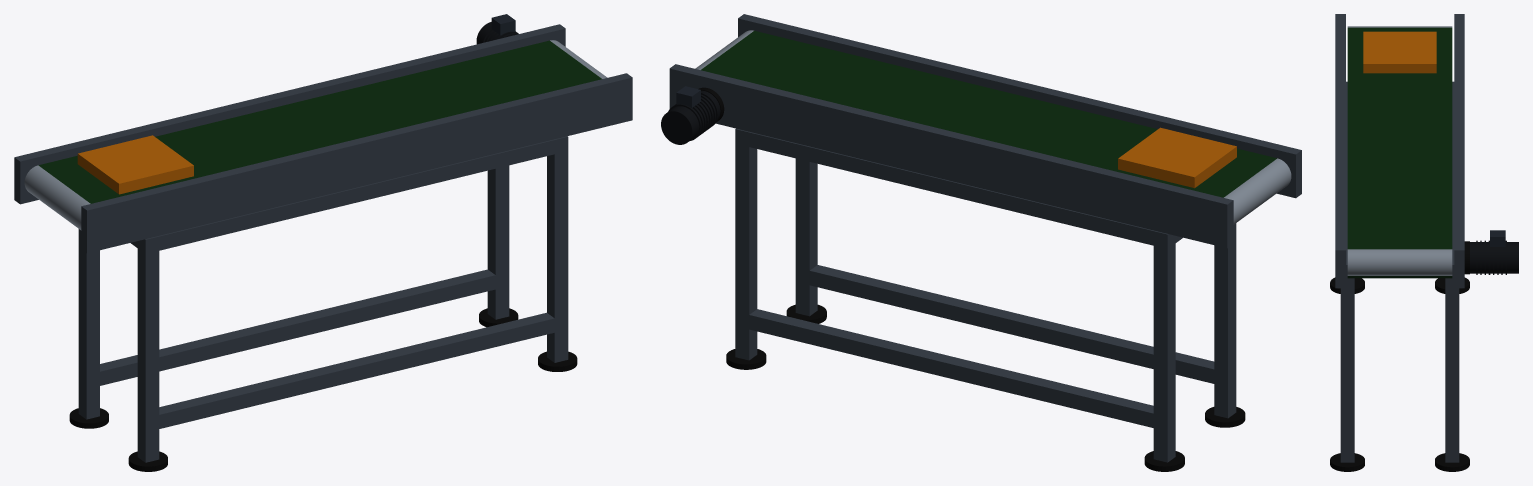
File: belt_conveyor.glb
3 views of the same model, side by side, from view 1: azimuth 30°, elevation 25°; view 2: azimuth 150°, elevation 25°; view 3: azimuth 270°, elevation 25° (orthographic). The views are drawn at different scales.
Parts seen in each view (by area): view 1: belt, frame, carrier, motor; view 2: belt, frame, carrier, motor; view 3: belt, frame, carrier, motor.
Boxes of the visible parts, x1,y1,x2,y2 form: belt: [14, 24, 632, 253]; frame: [69, 136, 577, 471]; carrier: [77, 135, 193, 194]; motor: [476, 14, 518, 44]; belt: [669, 14, 1301, 248]; frame: [726, 128, 1245, 471]; carrier: [1118, 127, 1236, 188]; motor: [661, 86, 724, 144]; belt: [1335, 14, 1464, 288]; frame: [1330, 81, 1469, 471]; carrier: [1363, 31, 1436, 73]; motor: [1464, 230, 1518, 274].
Bounding box in the file's own units: 1.6 × 0.78 × 0.5399.
